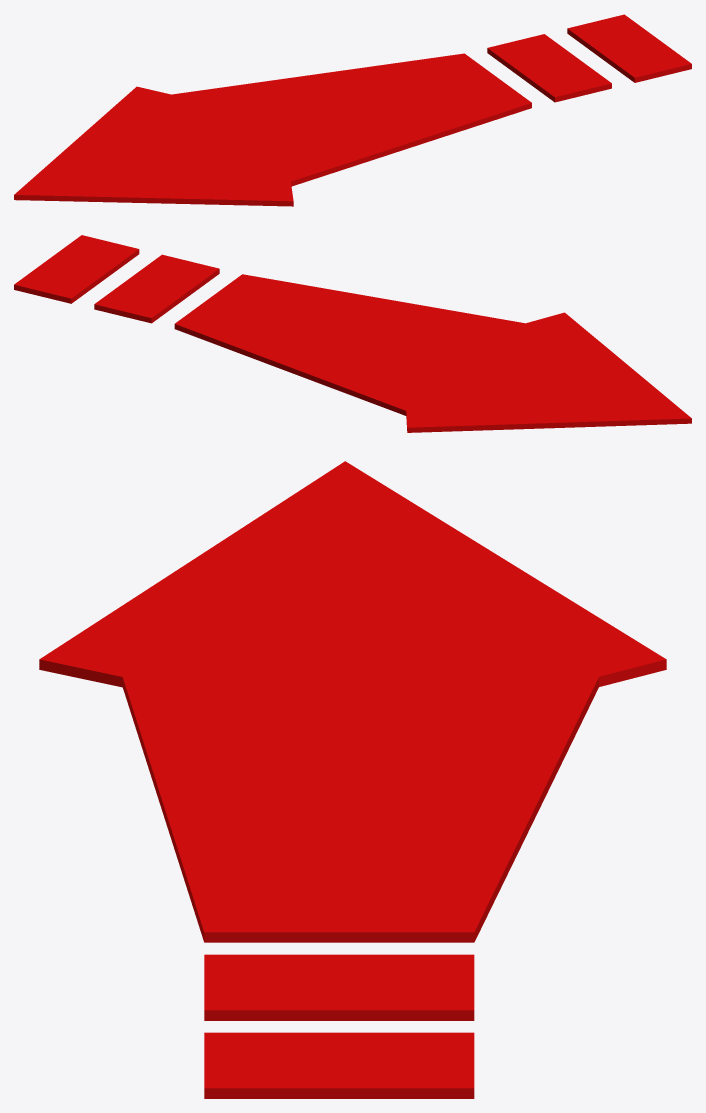
Rendered from aerial.glb.
3 views of the same model, one above another, from view 1: azimuth 30°, elevation 25°; view 2: azimuth 150°, elevation 25°; view 3: azimuth 270°, elevation 25° (orthographic). The views are drawn at different scales.
Parts seen in each view (by area): view 1: root; view 2: root; view 3: root.
Part boxes in pixels (x1,y1,x2,y2): root: (14,14,691,206); root: (14,235,691,432); root: (39,461,666,1098).
Size of the model in its own units: 1.29 by 0.01 by 0.5455.
